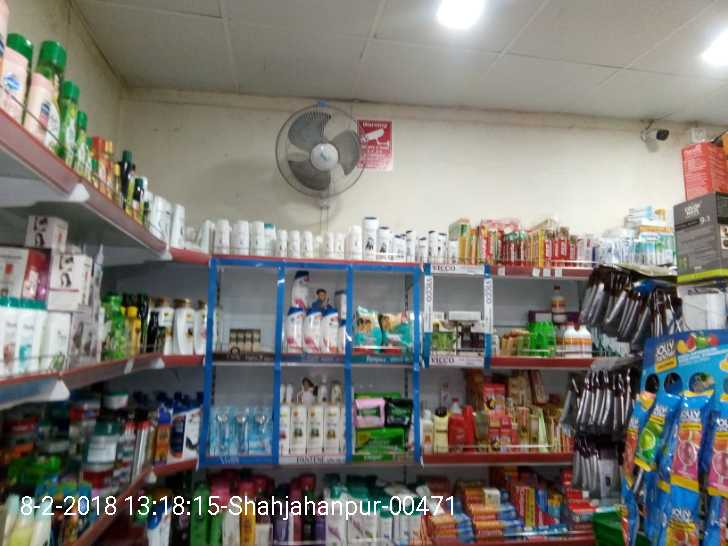venus: (249, 405, 273, 455), (209, 406, 231, 456), (231, 406, 249, 455)
